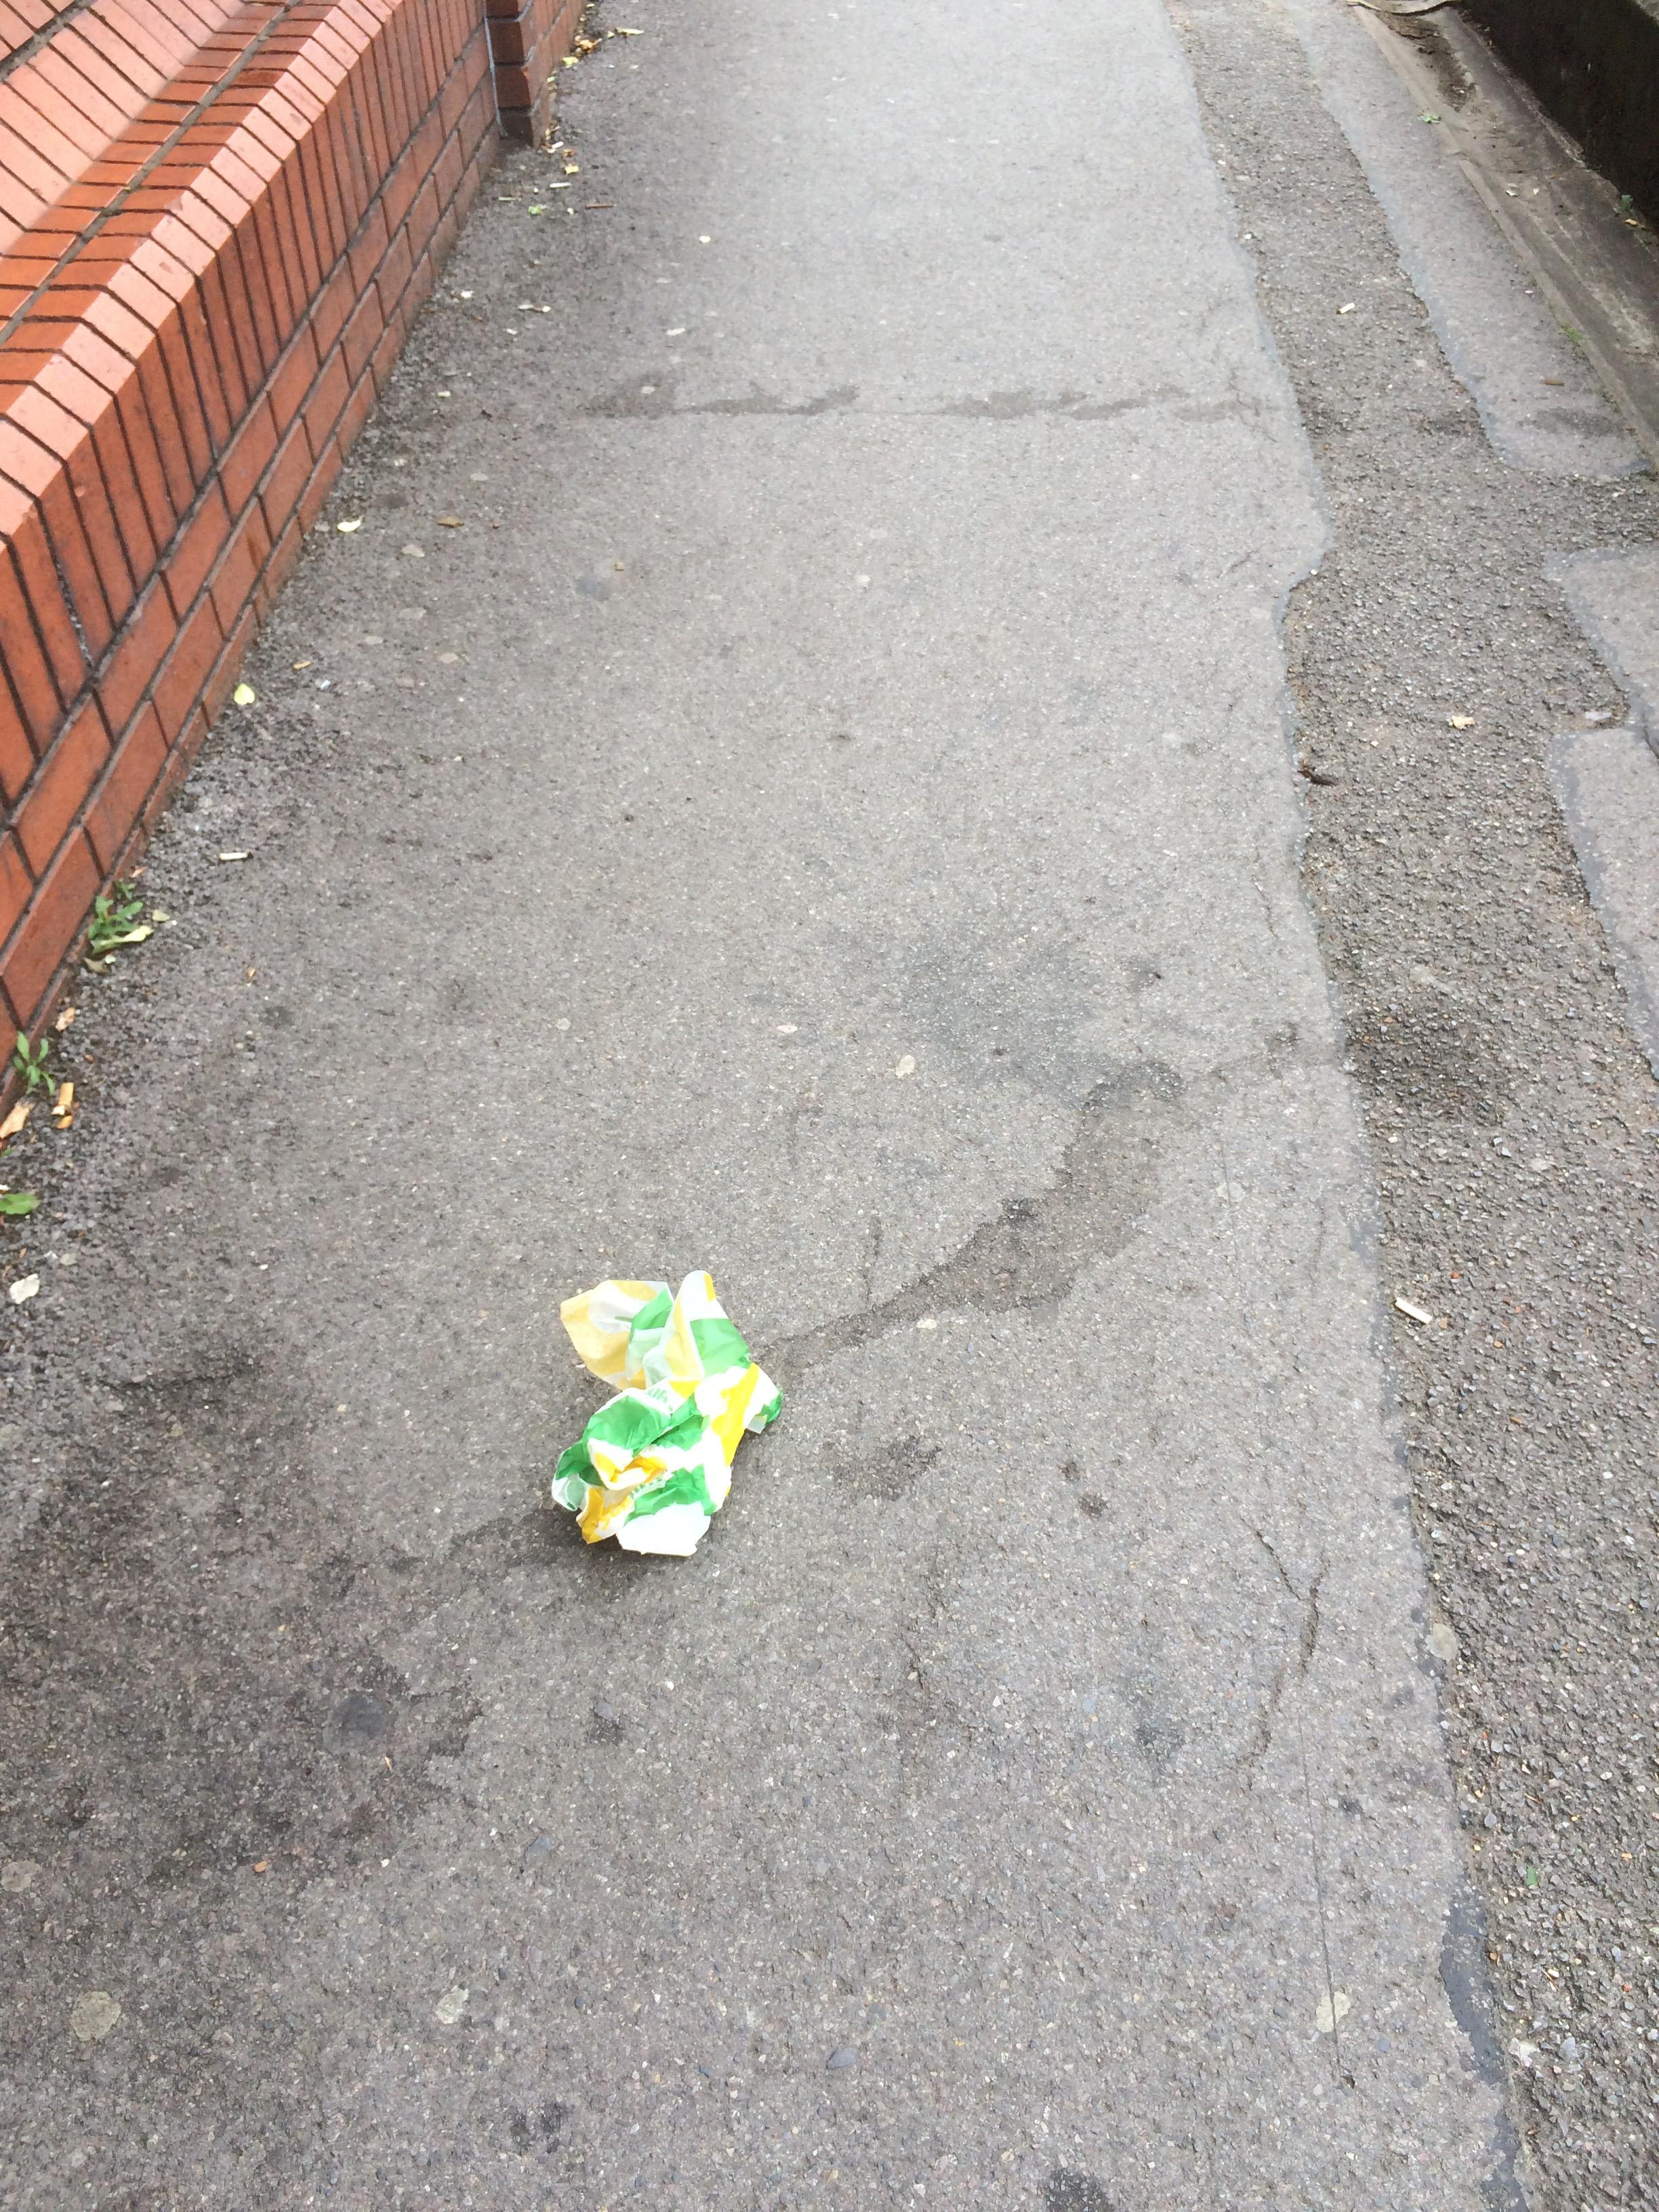Trash: (533, 1278, 781, 1566)
